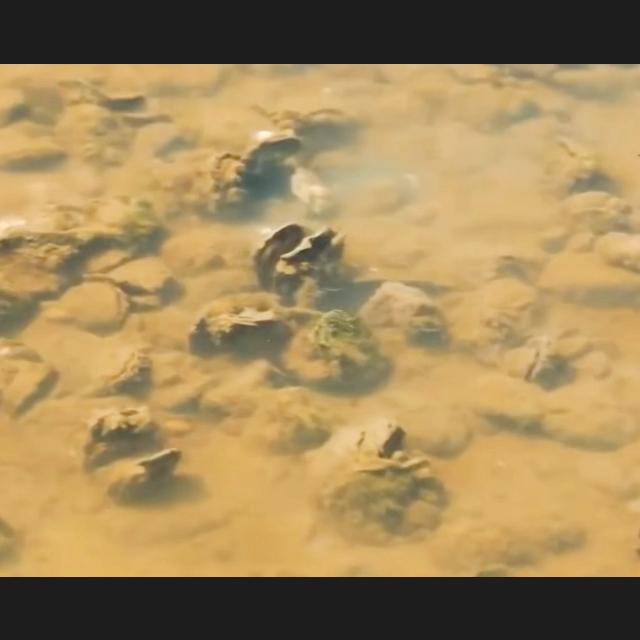Oyster-Closed: (322, 454, 450, 534), (286, 306, 386, 392), (188, 293, 292, 362), (358, 280, 444, 344), (84, 404, 162, 470), (0, 238, 80, 297), (52, 278, 126, 334), (94, 340, 156, 396), (502, 334, 564, 390), (206, 150, 256, 212)
Oyster-Open: (311, 416, 409, 478), (274, 224, 348, 300), (94, 258, 186, 310), (106, 446, 182, 504), (255, 221, 308, 297), (244, 131, 302, 195)
